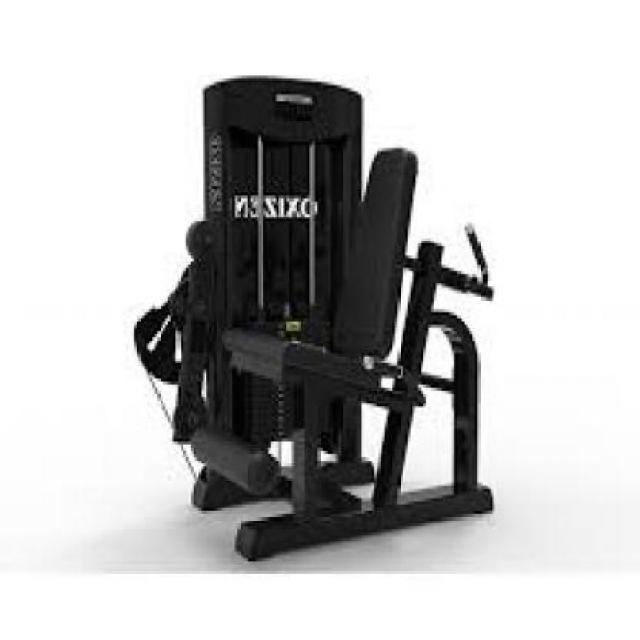leg extension: (129, 63, 523, 572)
